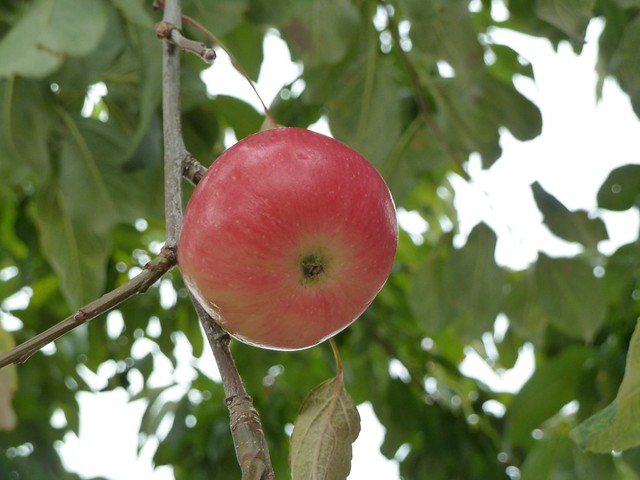apple: (174, 123, 401, 355)
